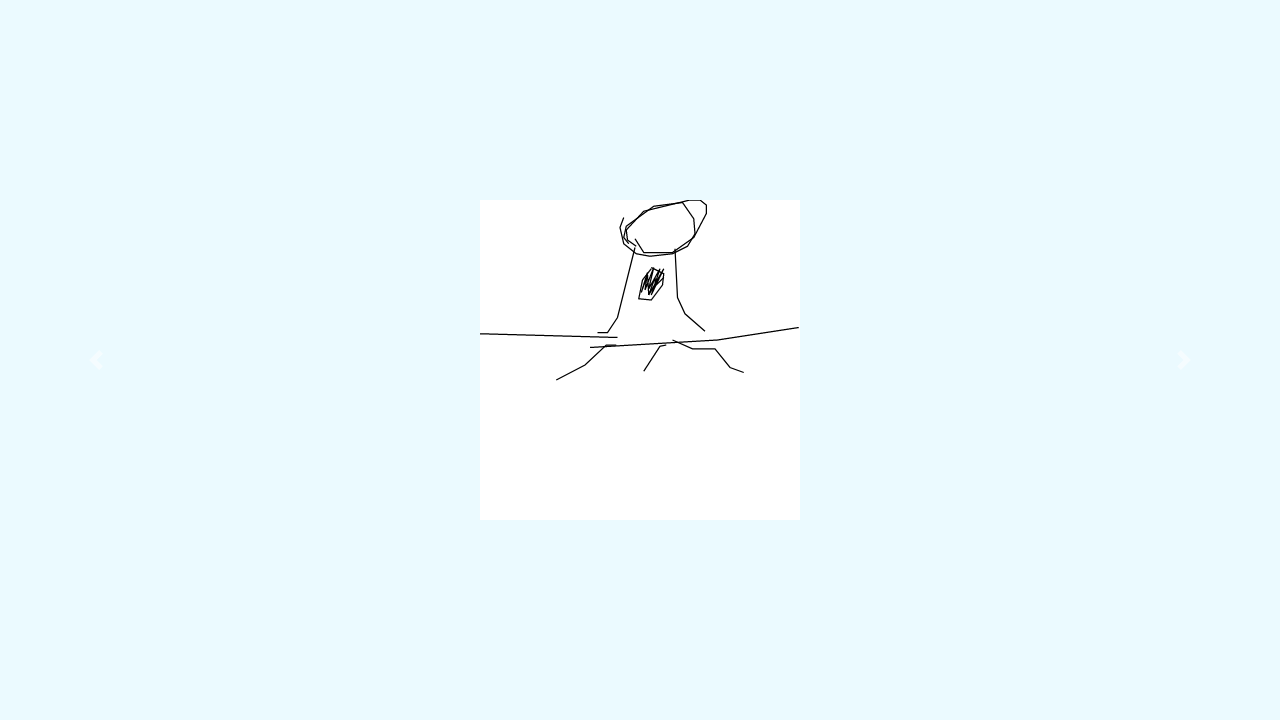tree: (470, 188, 805, 384)
